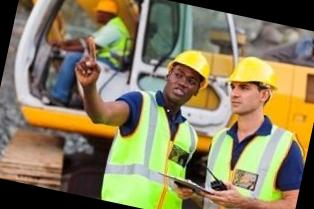Vest: (100, 86, 207, 209), (196, 108, 311, 209)
